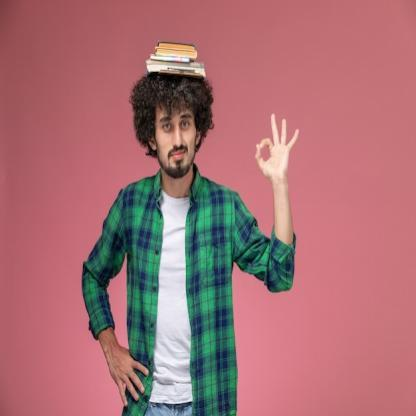ok: (252, 108, 301, 190)
